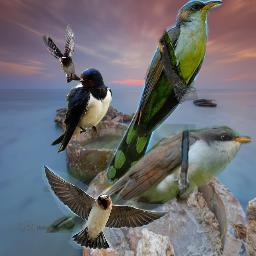Cuckoo: (43, 124, 251, 233), (107, 0, 222, 188)
Swallow: (42, 163, 168, 249), (50, 67, 113, 155), (42, 24, 82, 83)
